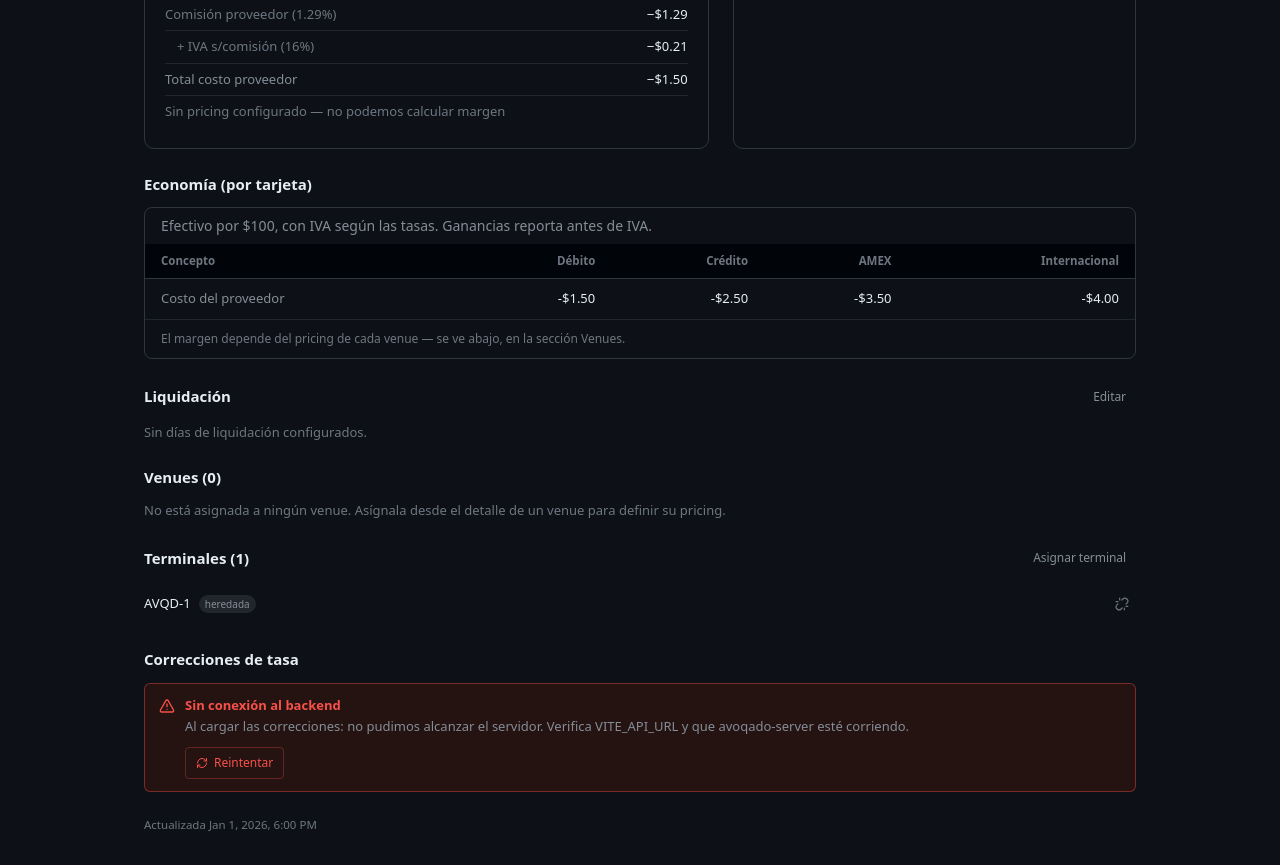
it: MerchantDetailPage › lista terminales con badge heredada/asignada y pide confirmación al quitar una heredada
(page scrolled)
Check: the text "AVQD-1" is shown, box [144,594,191,614]
Check: the text "heredada" is shown, box [199,595,256,613]
# Quitar una heredada NO pega al API directo — abre confirmación primero
Click the button named "Quitar terminal" at (1122, 604), box [1108,590,1136,618]
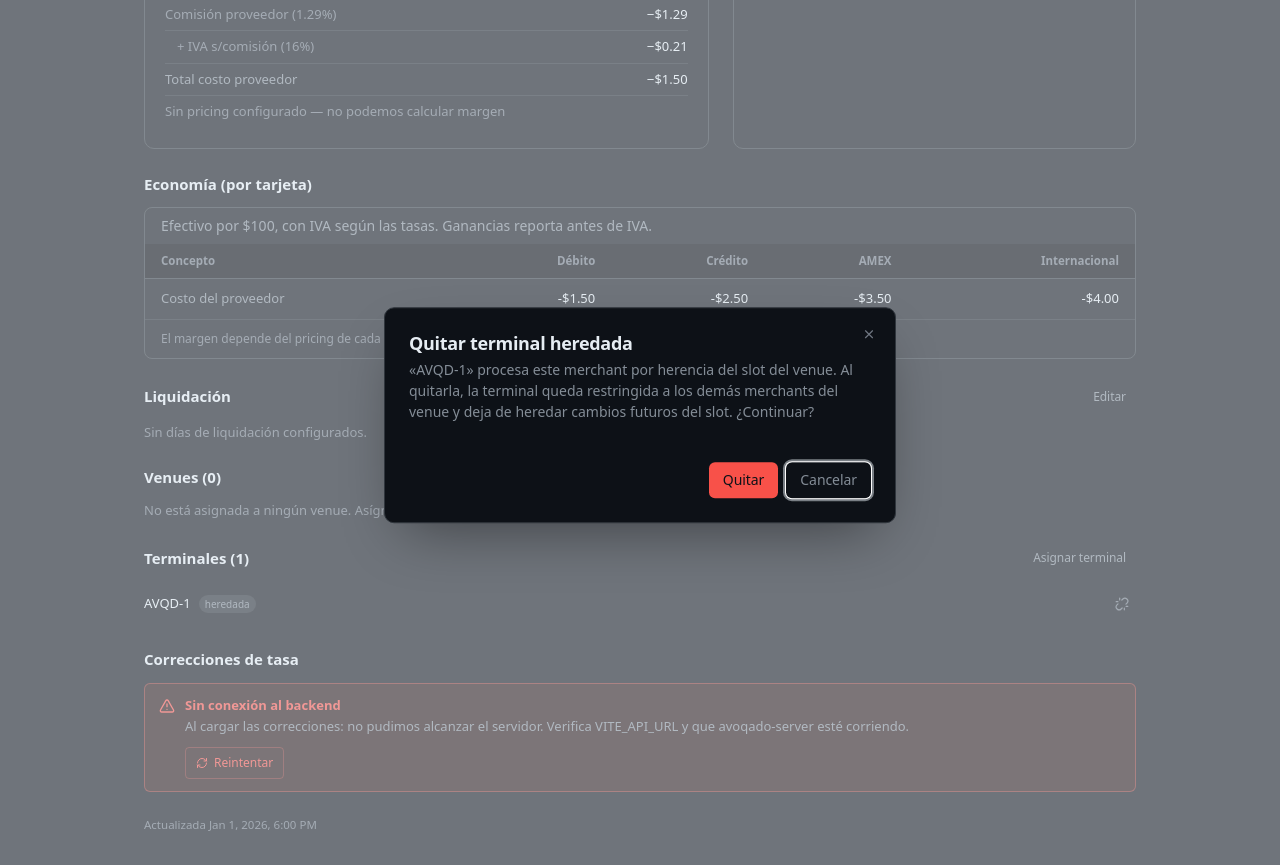
Check: the heading "Quitar terminal heredada" is shown, box [409,331,632,355]
